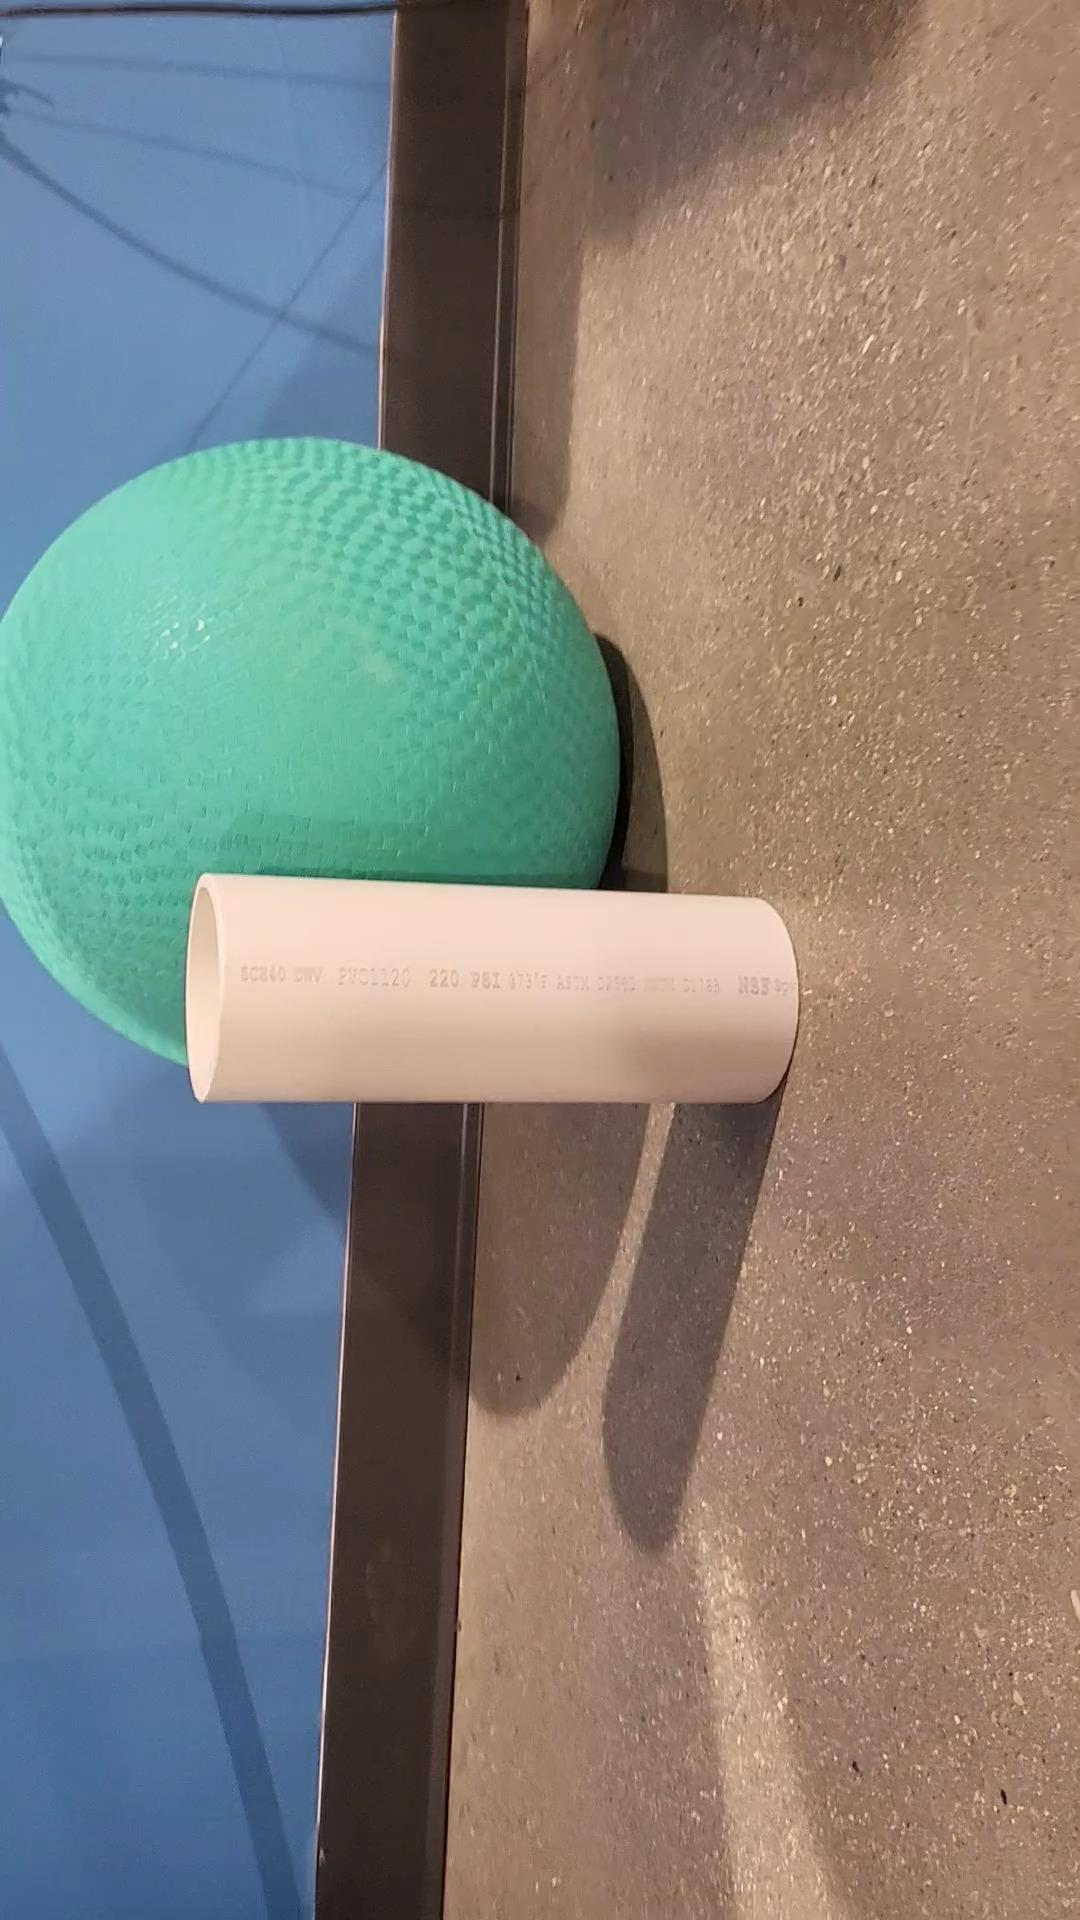algae: (0, 438, 624, 1065), (187, 870, 799, 1106)
